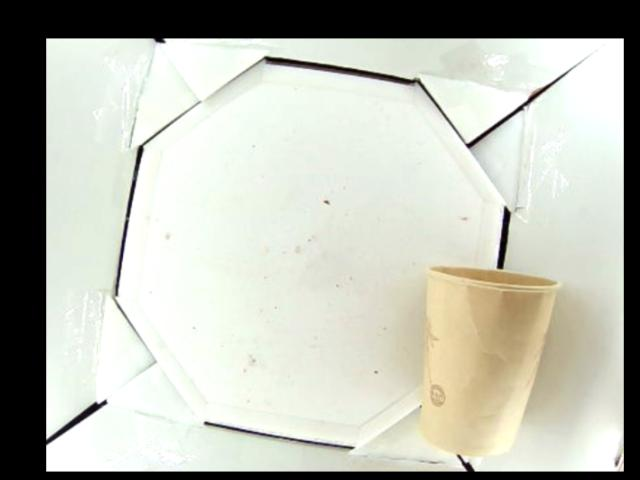Cup: (422, 267, 565, 452)
